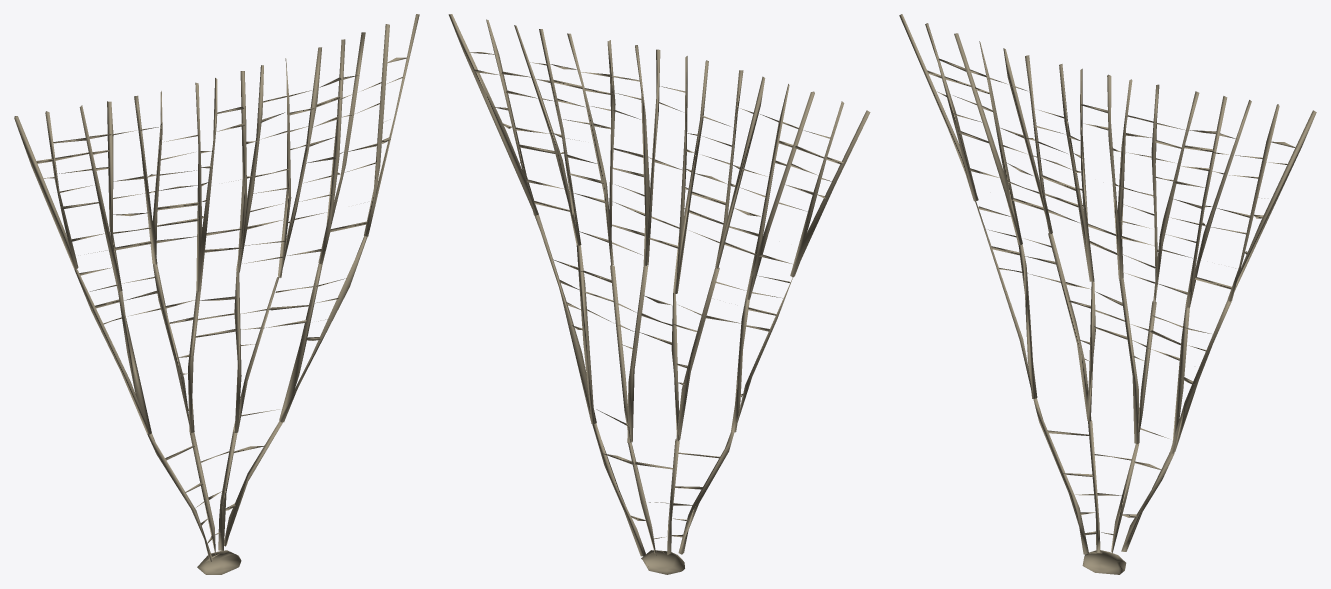
The model's file is bryozoan-colony.glb.
3 renders of one model, left to right at view 1: azimuth 30°, elevation 25°; view 2: azimuth 150°, elevation 25°; view 3: azimuth 330°, elevation 25°, orthographic.
Visible parts, largest first — view 1: bryozoan-colony; view 2: bryozoan-colony; view 3: bryozoan-colony.
Boxes of the visible parts, <box> form: bryozoan-colony: <box>14,14,419,574</box>; bryozoan-colony: <box>448,14,870,574</box>; bryozoan-colony: <box>899,14,1316,574</box>.
Bounding box in the file's own units: 0.7696 × 0.9 × 0.0694.
